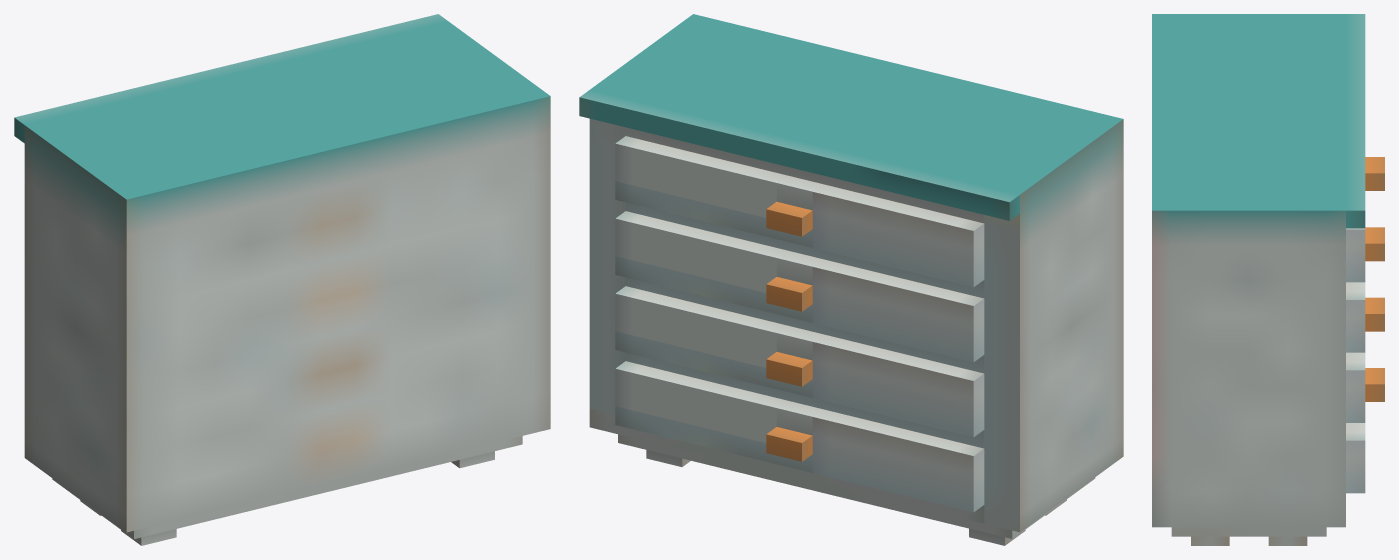
Rendered from DresserWhite_00.fbx.
3 renders of one model, left to right at view 1: azimuth 30°, elevation 25°; view 2: azimuth 150°, elevation 25°; view 3: azimuth 270°, elevation 25°, orthographic. The views are drawn at different scales.
Parts seen in each view (by area): view 1: DresserWhite_00; view 2: DresserWhite_00; view 3: DresserWhite_00.
Boxes of the visible parts, left/top/right/bottom form: DresserWhite_00: left=14, top=14, right=550, bottom=545; DresserWhite_00: left=579, top=14, right=1123, bottom=545; DresserWhite_00: left=1152, top=14, right=1384, bottom=545.
Size of the model in its own units: 120 by 60 by 100.
Materials: 1 (1 with a texture image).
